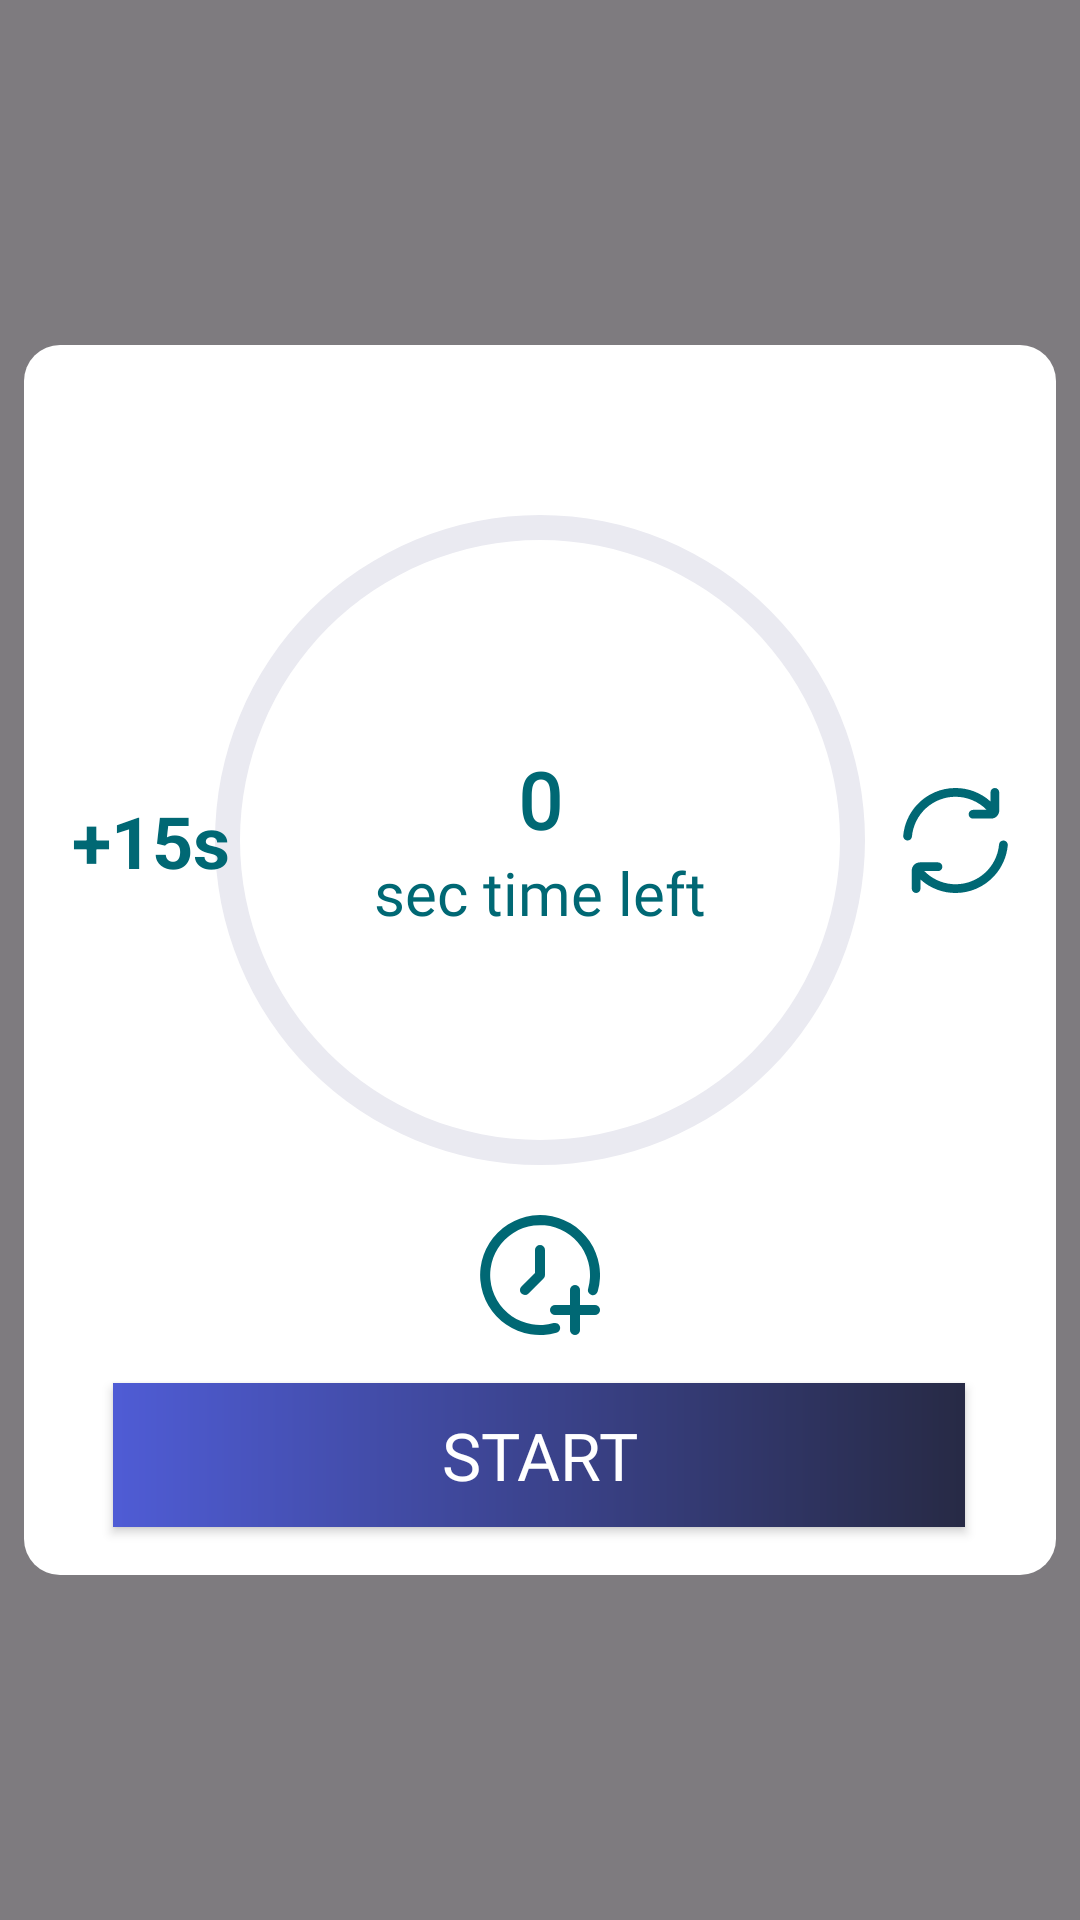

Where to tap for icons on this 1080*1920 app screen, as (x=x, y=y):
refresh: (x=955, y=840)
time: (x=540, y=1275)
